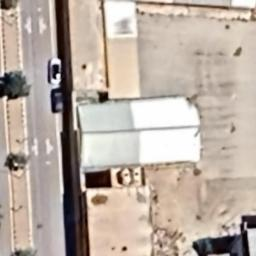sedan: (44, 54, 66, 86), (50, 87, 66, 115)
